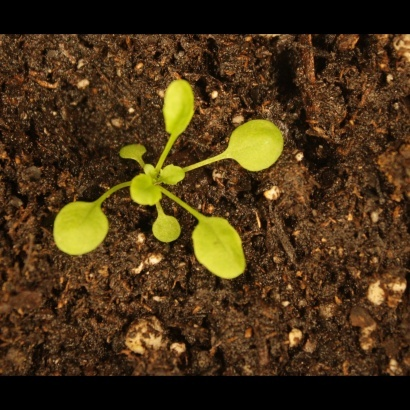leaf: (186, 211, 256, 289), (51, 193, 117, 265), (221, 116, 295, 174), (156, 71, 206, 146), (120, 171, 164, 211), (144, 211, 182, 245), (159, 158, 190, 192), (117, 138, 155, 165)
